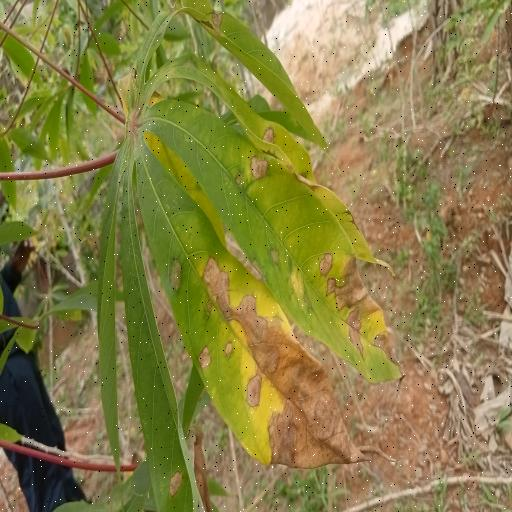Cassava_Root_Rot: (98, 1, 398, 512)
